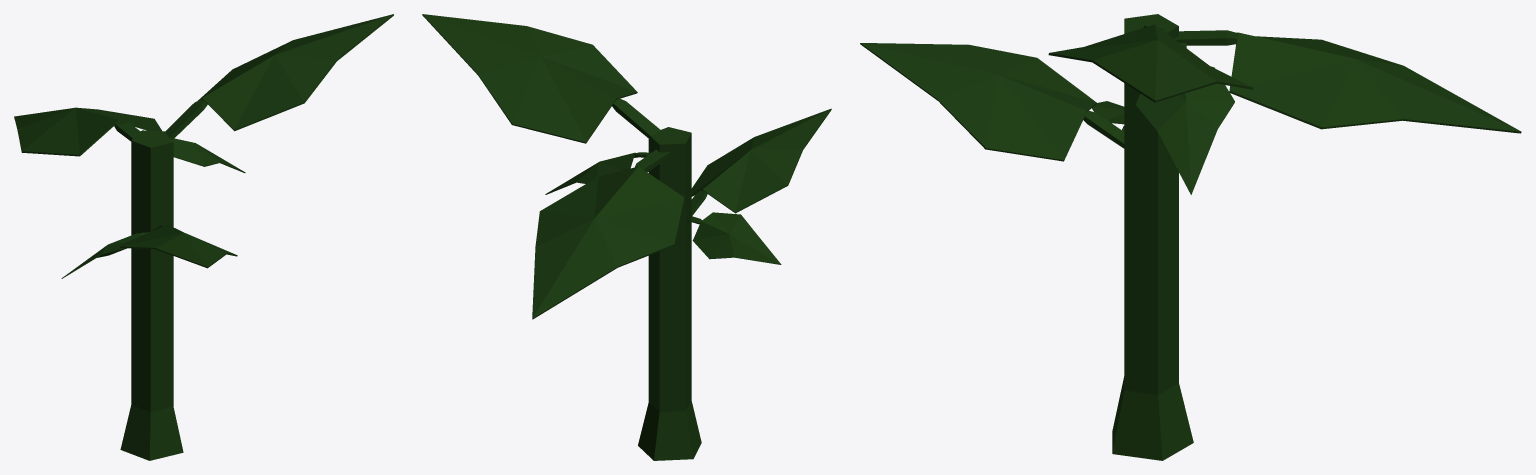
The model's file is TomatoPlant_Stage_01.obj.
3 renders of one model, left to right at view 1: azimuth 30°, elevation 25°; view 2: azimuth 150°, elevation 25°; view 3: azimuth 270°, elevation 25°, orthographic. The views are drawn at different scales.
Parts seen in each view (by area): view 1: TomatoPlant_Stage_01_Cylinder.040; view 2: TomatoPlant_Stage_01_Cylinder.040; view 3: TomatoPlant_Stage_01_Cylinder.040.
Boxes of the visible parts, x1,y1,x2,y2 form: TomatoPlant_Stage_01_Cylinder.040: [14, 14, 393, 460]; TomatoPlant_Stage_01_Cylinder.040: [422, 14, 831, 460]; TomatoPlant_Stage_01_Cylinder.040: [860, 14, 1521, 460].
Bounding box in the file's own units: 1.23 × 1.27 × 1.51.
